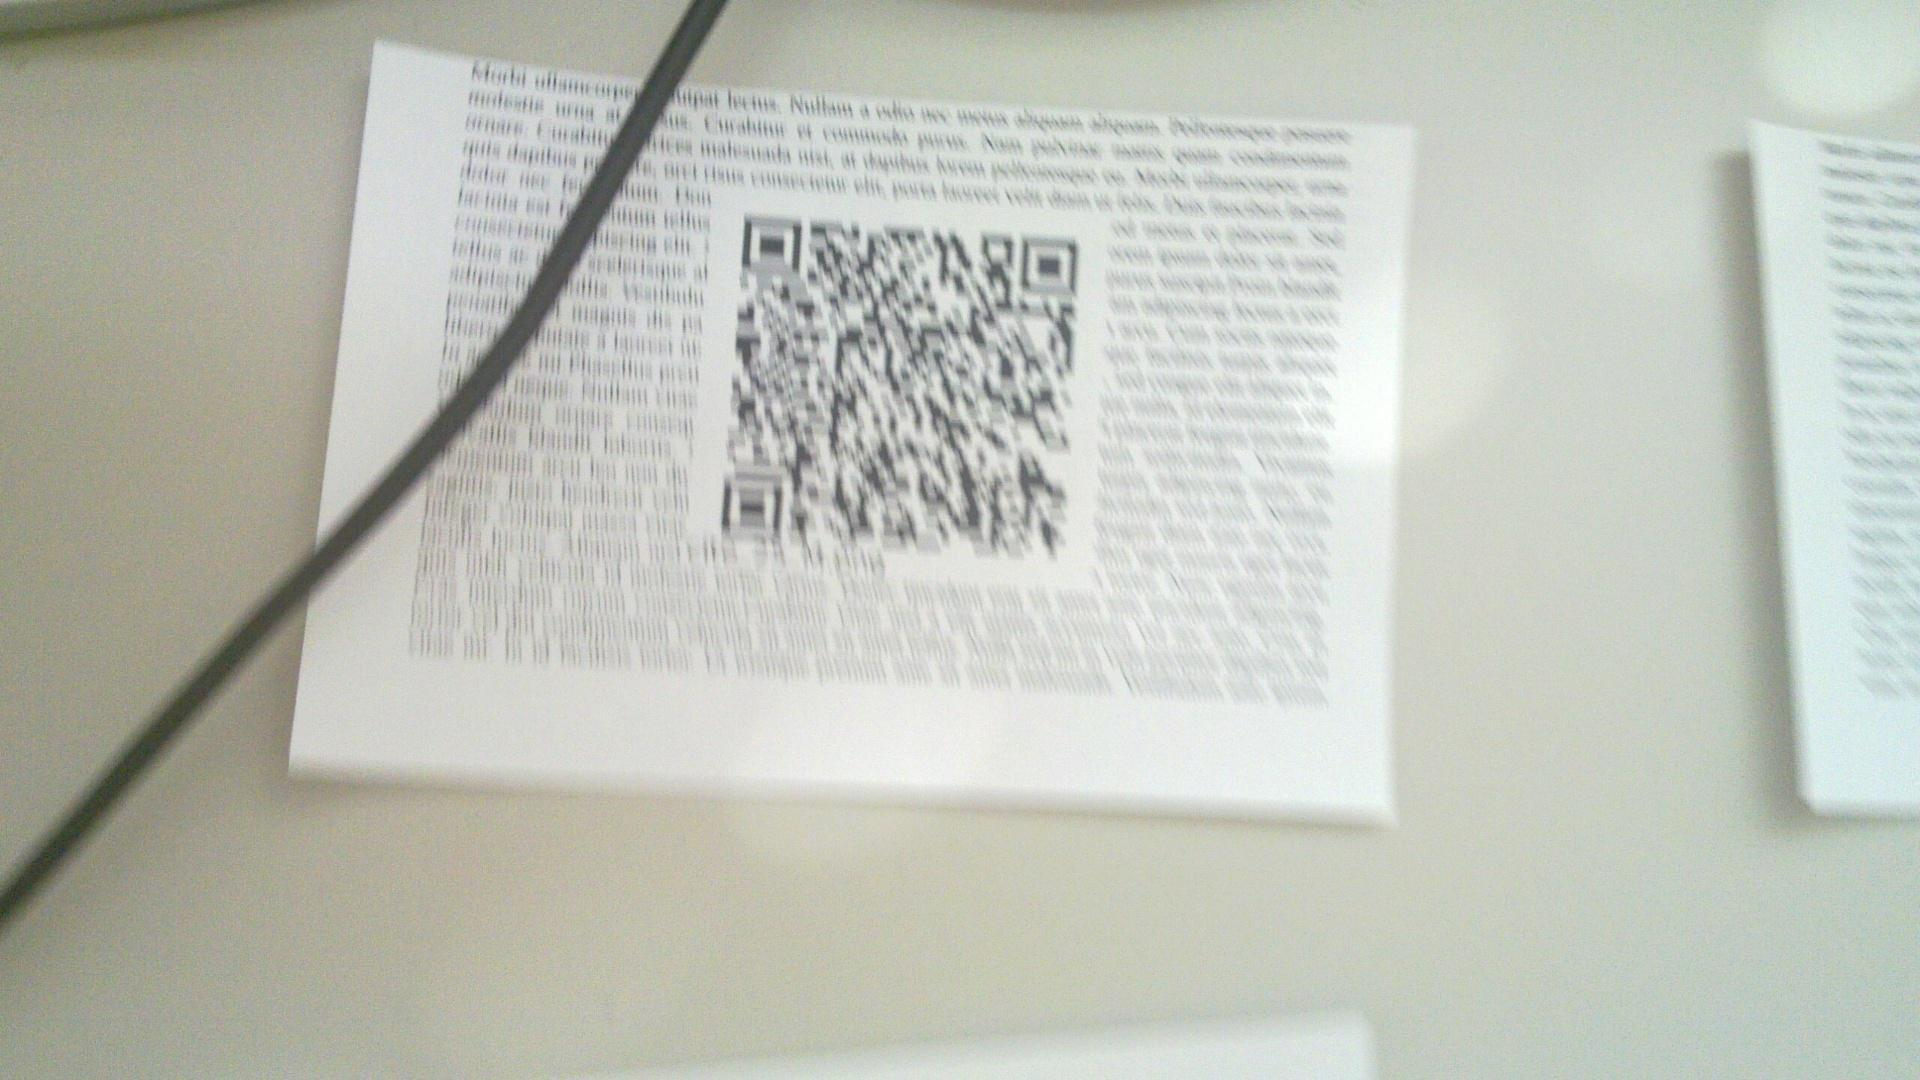Finder pattern: (720, 469, 785, 545), (738, 210, 808, 277), (1018, 233, 1080, 299)
